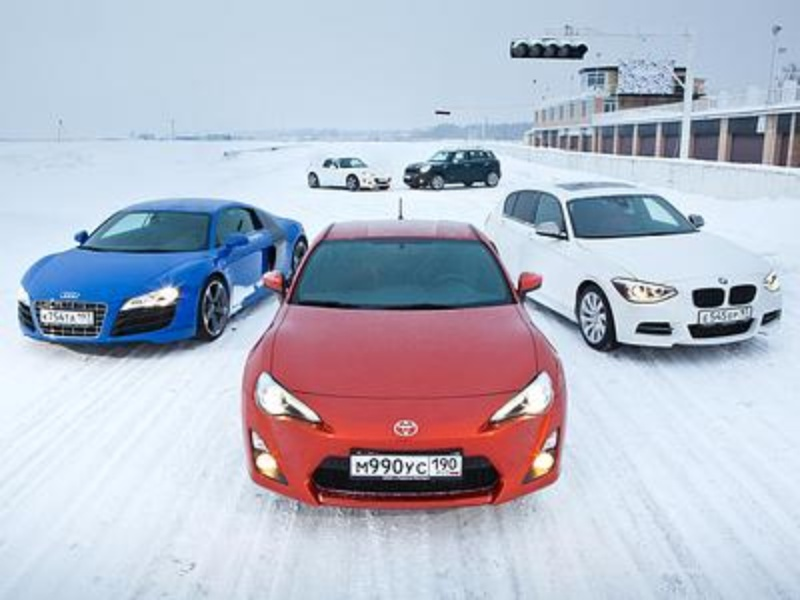car: (241, 222, 568, 511), (483, 180, 783, 351), (17, 198, 309, 344), (404, 148, 502, 189), (305, 155, 392, 192)
plate: (350, 455, 461, 475), (700, 306, 751, 321), (39, 309, 93, 323)
